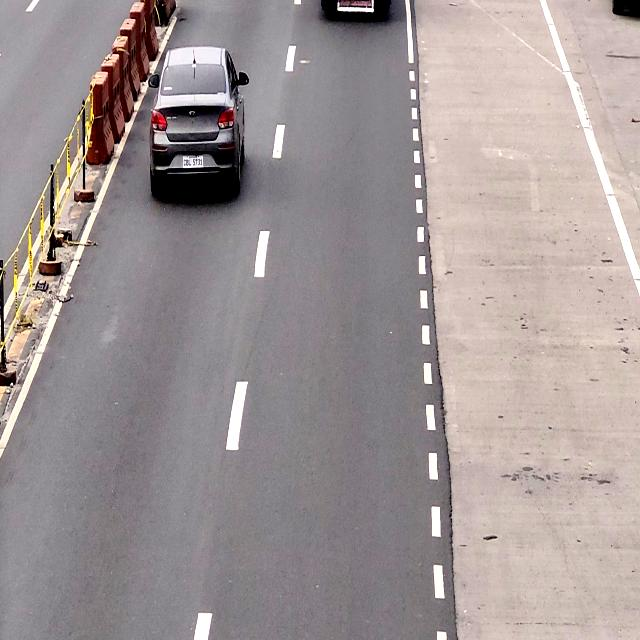Car: (150, 46, 242, 197)
License-Plate: (181, 154, 205, 169)
